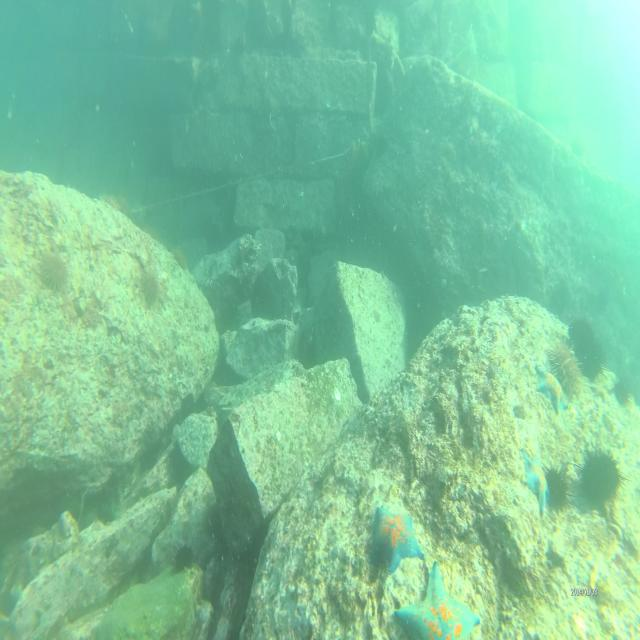echinus: (574, 445, 624, 513), (567, 315, 604, 382), (545, 339, 582, 396), (539, 458, 573, 514), (36, 247, 70, 298), (135, 265, 162, 312), (617, 371, 633, 412)
starfish: (392, 558, 481, 640), (368, 501, 427, 573), (520, 441, 549, 515), (534, 361, 570, 418)
